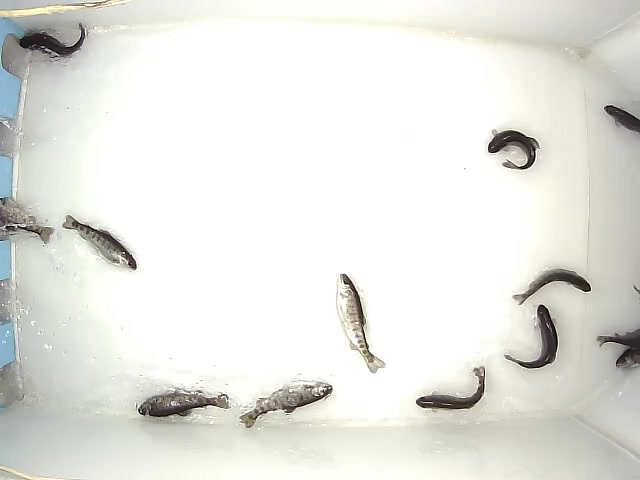fish: (335, 273, 386, 374), (238, 379, 334, 429), (62, 214, 139, 272), (503, 303, 561, 370), (415, 364, 486, 415), (511, 267, 592, 307), (136, 388, 232, 418), (18, 22, 87, 58), (487, 128, 541, 170)
